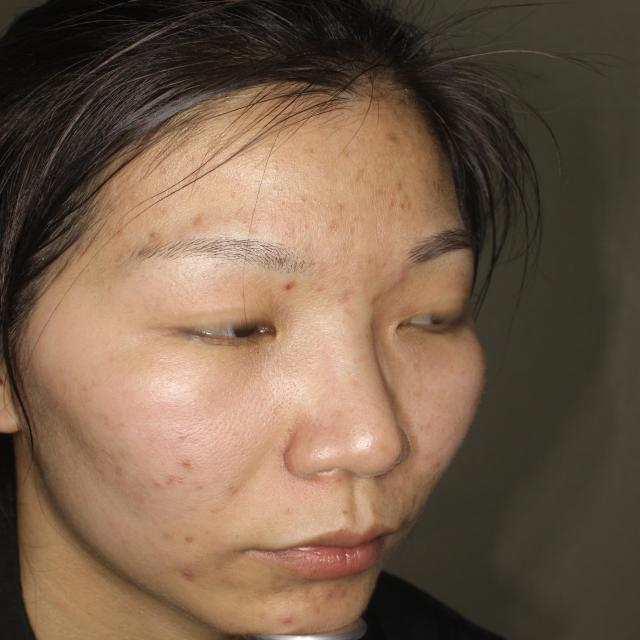acne: (177, 451, 212, 478), (174, 560, 210, 584), (270, 604, 300, 628), (322, 580, 355, 600), (142, 224, 168, 245)
